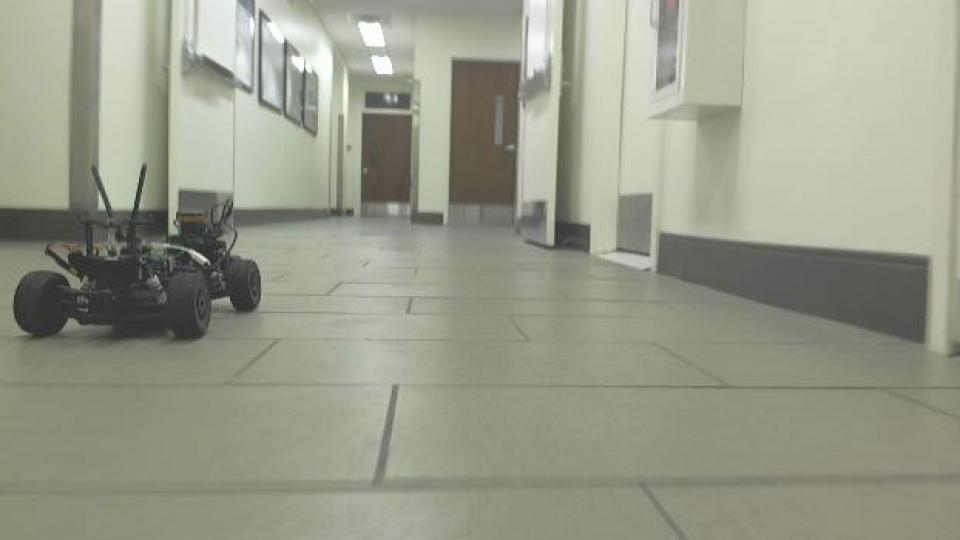car: (9, 159, 264, 344)
